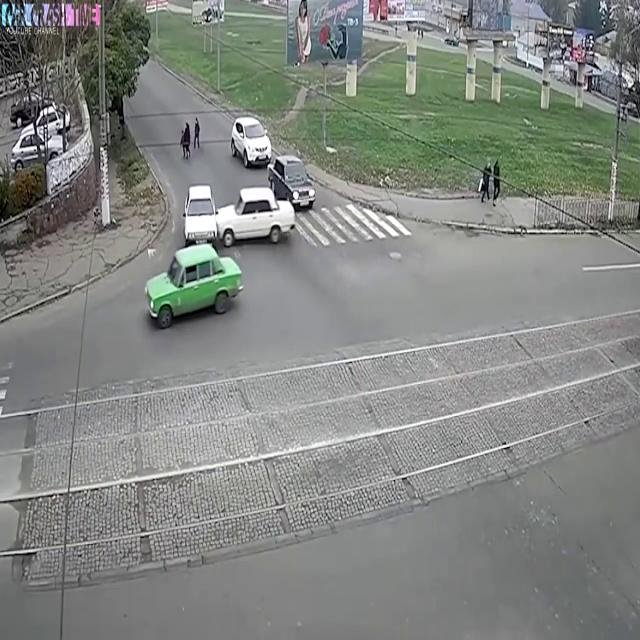accident: (182, 182, 298, 246)
